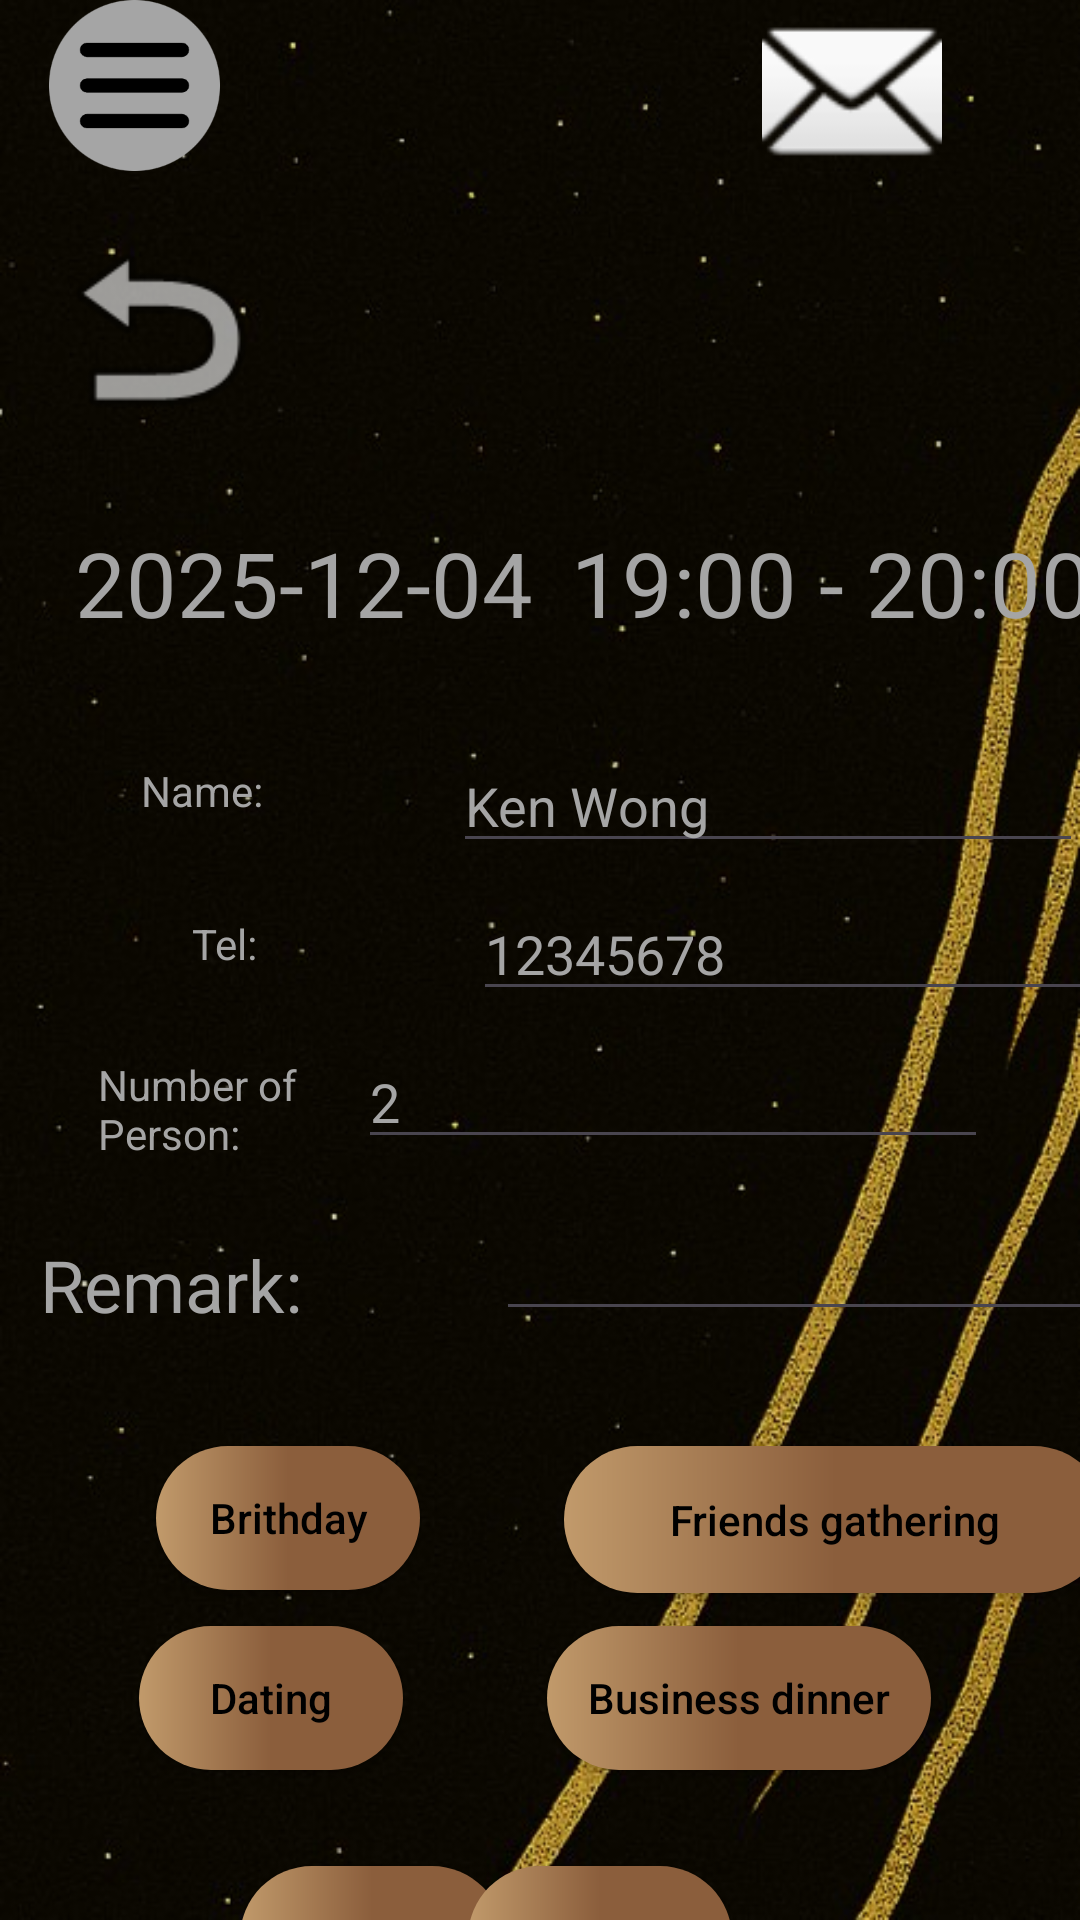

Icons on this 1080×1920 Android screen, each with the point to tap as (x=x, y=y):
burger menu: (x=134, y=85)
email: (x=846, y=103)
revert: (x=164, y=335)
